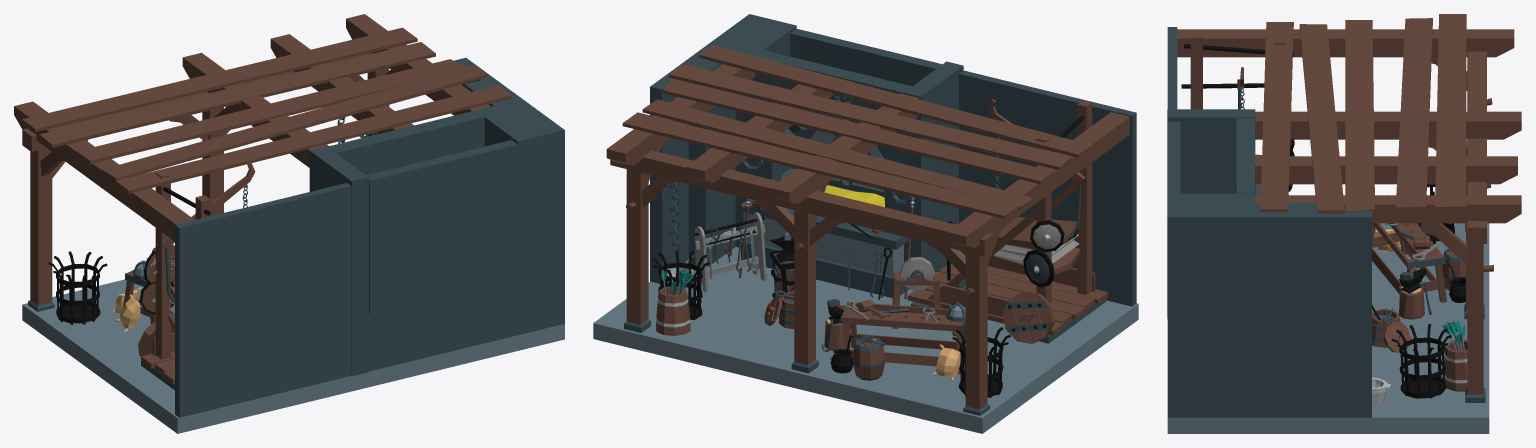
The model's file is Forge.glb.
3 renders of one model, left to right at view 1: azimuth 30°, elevation 25°; view 2: azimuth 150°, elevation 25°; view 3: azimuth 270°, elevation 25°, orthographic. The views are drawn at different scales.
Parts seen in each view (by area): view 1: node_MeshObject375550976-PolyPaper17, node_MeshObject-107513856-PolyPaper17, node_MeshObject-196528128-PolyPaper23; view 2: node_MeshObject-107513856-PolyPaper17, node_MeshObject375550976-PolyPaper17, node_MeshObject-196528128-PolyPaper23; view 3: node_MeshObject375550976-PolyPaper17, node_MeshObject-107513856-PolyPaper17, node_MeshObject-196528128-PolyPaper23.
Boxes of the visible parts, box(x1,y1,x2,y2) form: node_MeshObject375550976-PolyPaper17: box(40, 57, 564, 417); node_MeshObject-107513856-PolyPaper17: box(22, 14, 564, 433); node_MeshObject-196528128-PolyPaper23: box(14, 27, 417, 384); node_MeshObject-107513856-PolyPaper17: box(593, 45, 1138, 433); node_MeshObject375550976-PolyPaper17: box(641, 14, 1136, 397); node_MeshObject-196528128-PolyPaper23: box(610, 84, 1129, 397); node_MeshObject375550976-PolyPaper17: box(1167, 27, 1467, 417); node_MeshObject-107513856-PolyPaper17: box(1167, 18, 1521, 433); node_MeshObject-196528128-PolyPaper23: box(1177, 14, 1521, 402).
Bounding box in the file's own units: 3.98 × 2.09 × 2.96.
